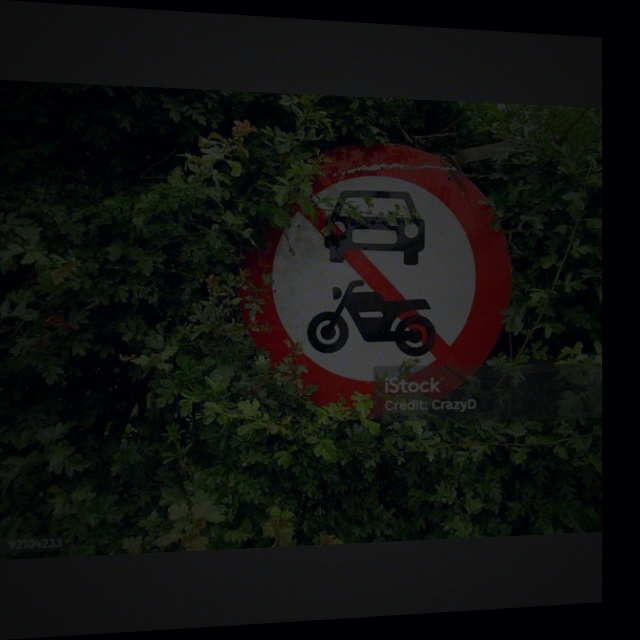All_Motor_Vehicles_Prohibited: (240, 138, 511, 422)
